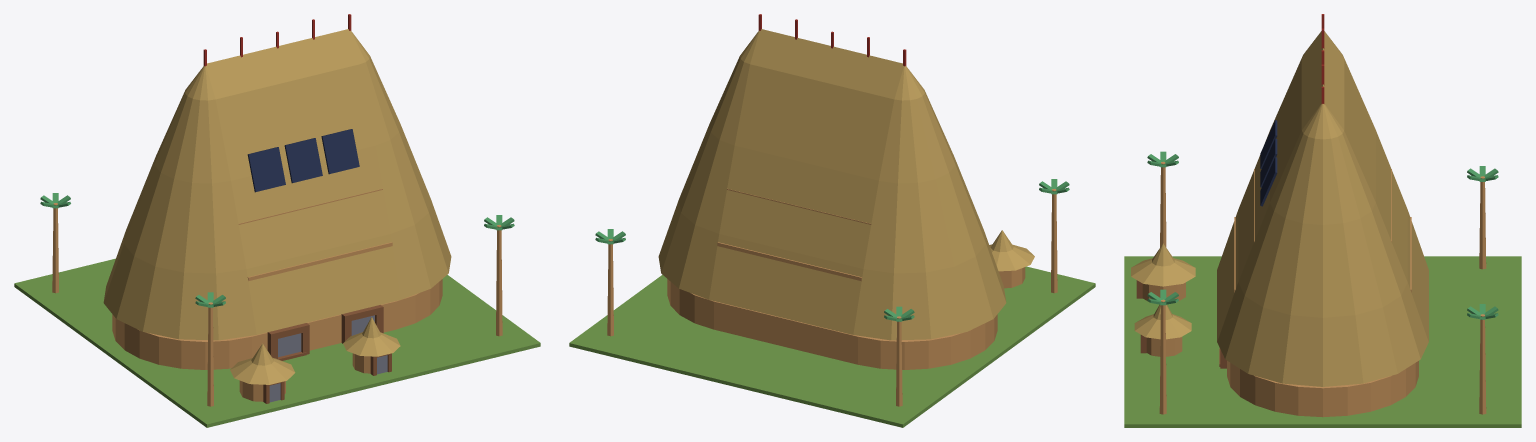
Rendered from house-2x2-4f-maloca-a-solar.glb.
The picture shows the model from 3 angles, left to right: view 1: azimuth 30°, elevation 25°; view 2: azimuth 150°, elevation 25°; view 3: azimuth 270°, elevation 25°; orthographic projection. The views are drawn at different scales.
Visible parts, largest first — view 1: house-2x2-4f-maloca-a-solar; view 2: house-2x2-4f-maloca-a-solar; view 3: house-2x2-4f-maloca-a-solar.
Boxes of the visible parts, box(x1,y1,x2,y2) form: house-2x2-4f-maloca-a-solar: box(14, 14, 540, 427); house-2x2-4f-maloca-a-solar: box(569, 14, 1095, 427); house-2x2-4f-maloca-a-solar: box(1124, 14, 1521, 427).
Bounding box in the file's own units: 1.99 × 1.64 × 1.99.
Materials: 1 (1 with a texture image).
